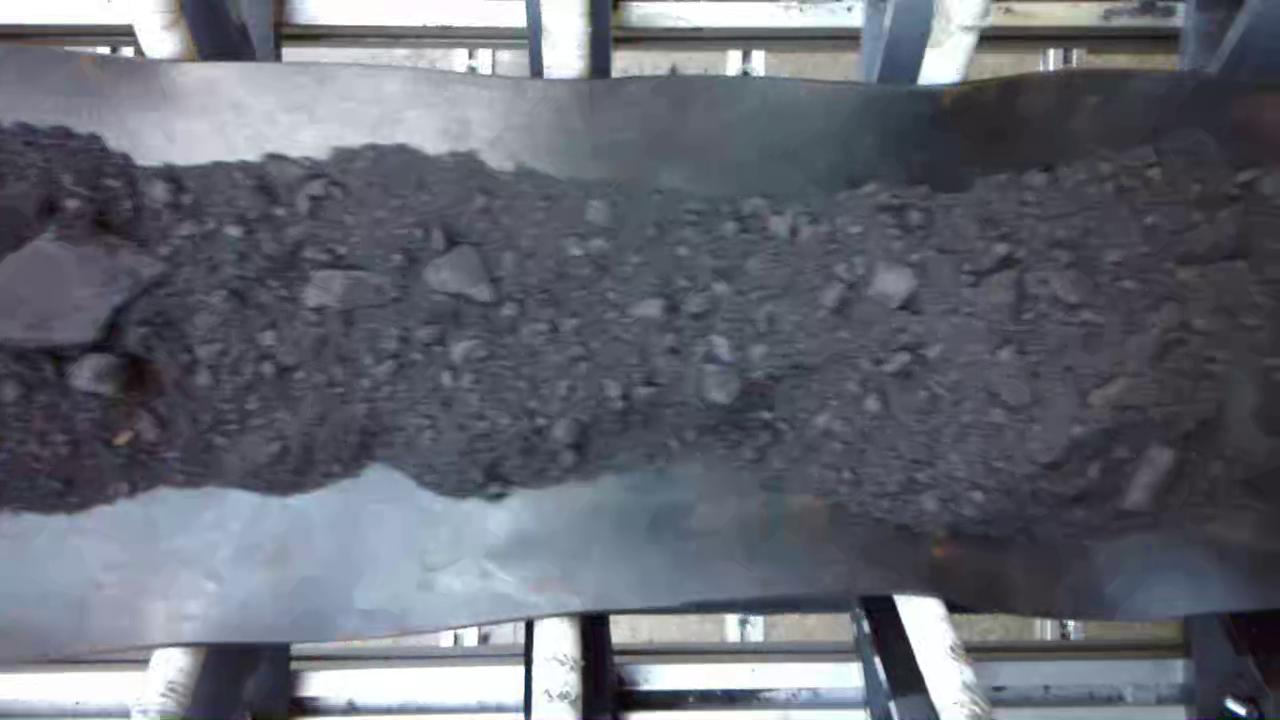conveyor: (0, 81, 1280, 597)
